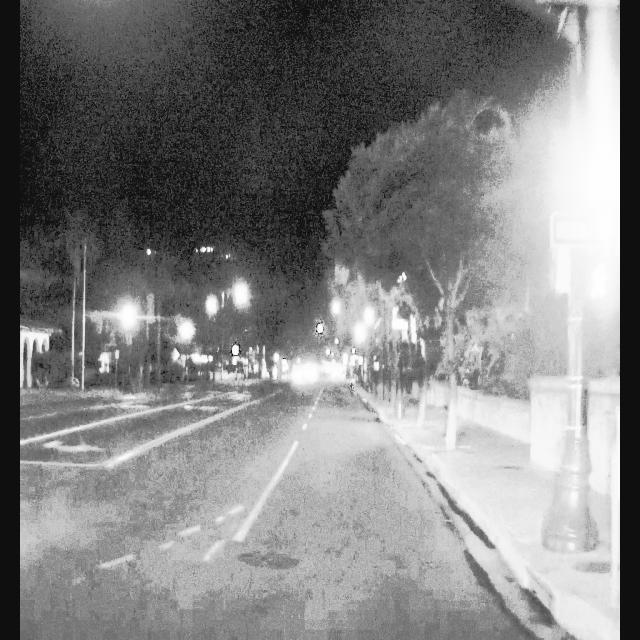Light: (589, 138, 619, 211), (587, 261, 613, 297)
Sign: (551, 212, 619, 247)
Tree: (421, 121, 483, 459)
